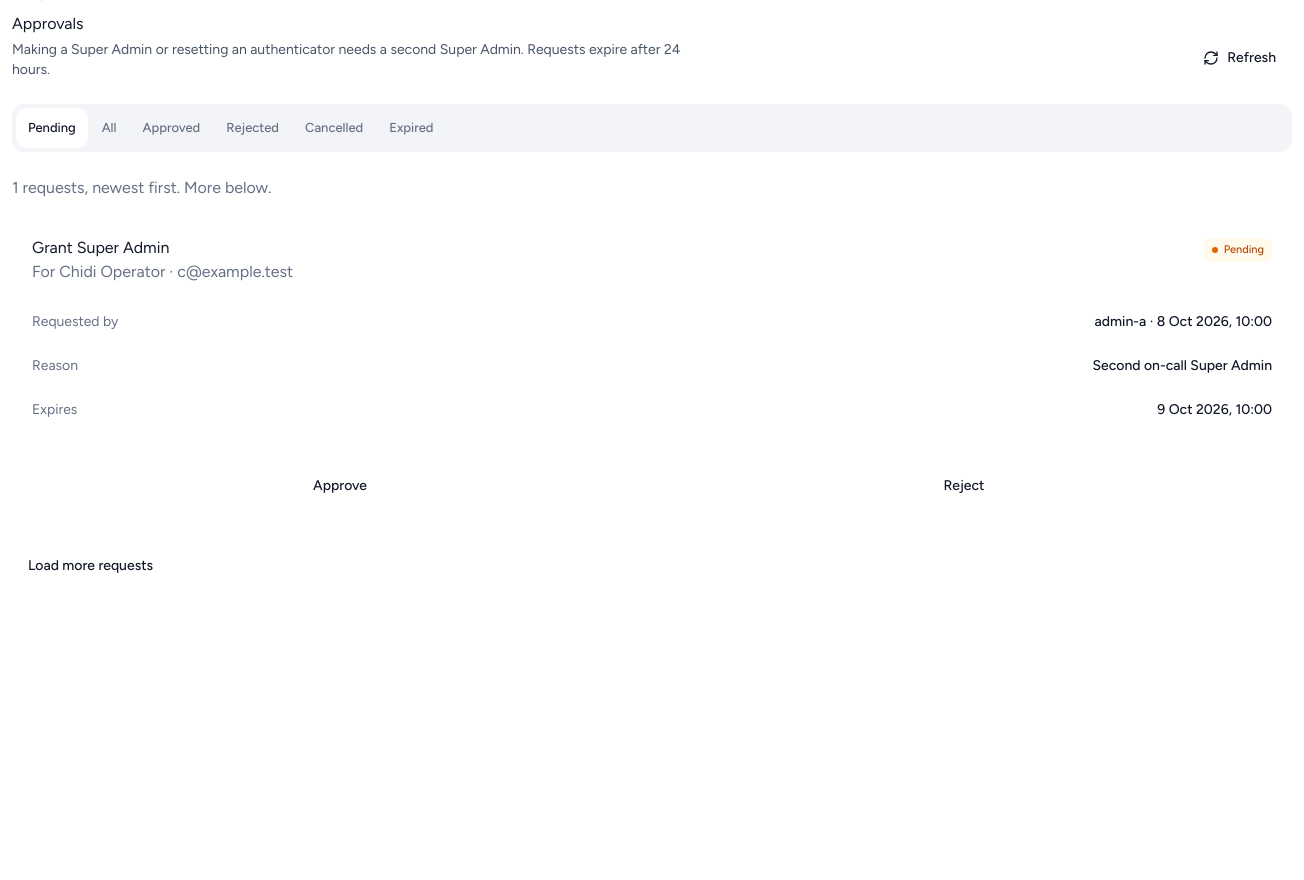
Test: two-person approvals › pages beyond the first page with the backend cursor, for the same status, with no cap
Expected: the text "1 requests, newest first. More below." is shown, [12,178,272,197]
Click the button "Load more requests". click: (91, 566)
box: [12,544,169,588]
(page scrolled)
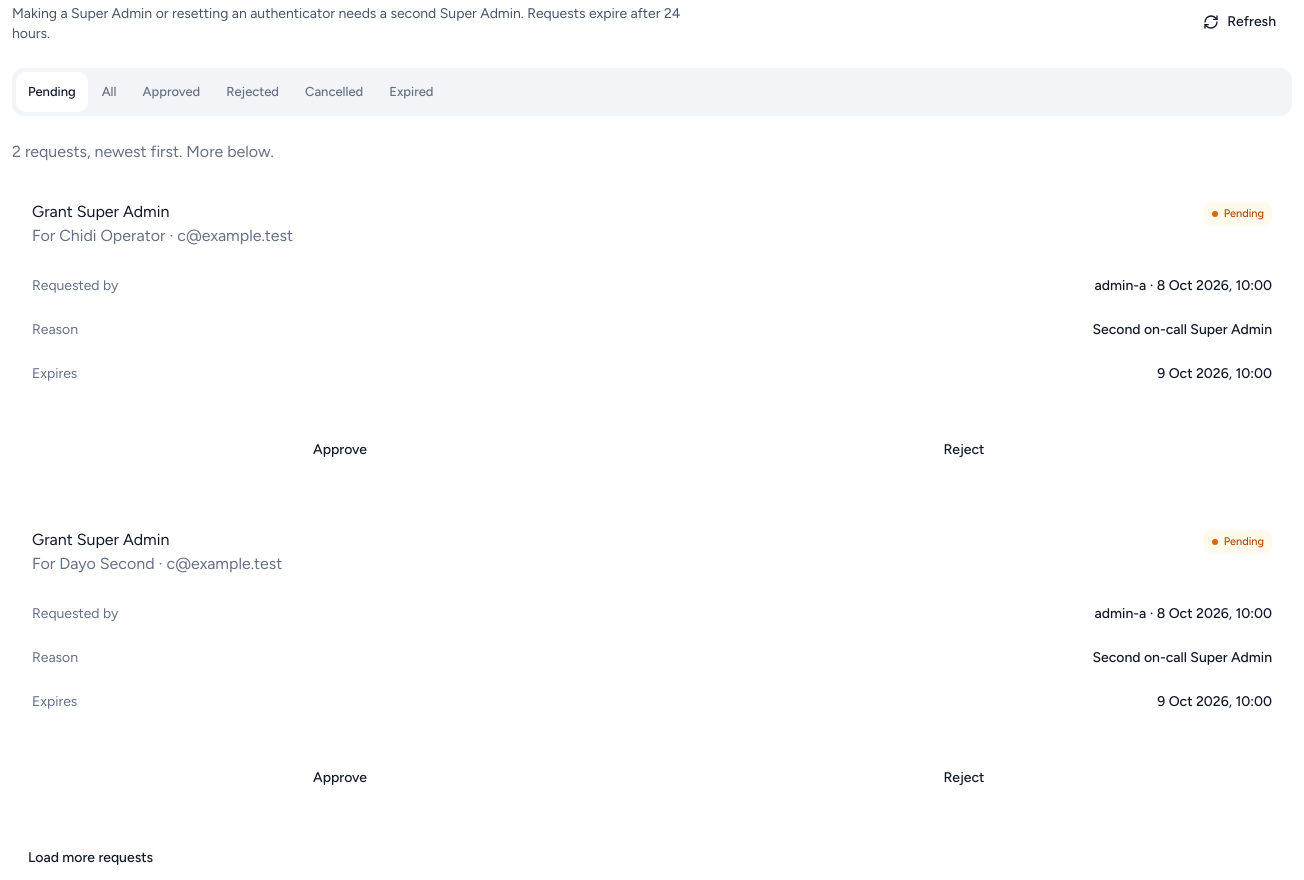
Now the text "For Dayo Second · c@example.test" is shown, box [32,552,282,576]
Click the button "Load more requests". click: (91, 858)
box: [12,836,169,879]
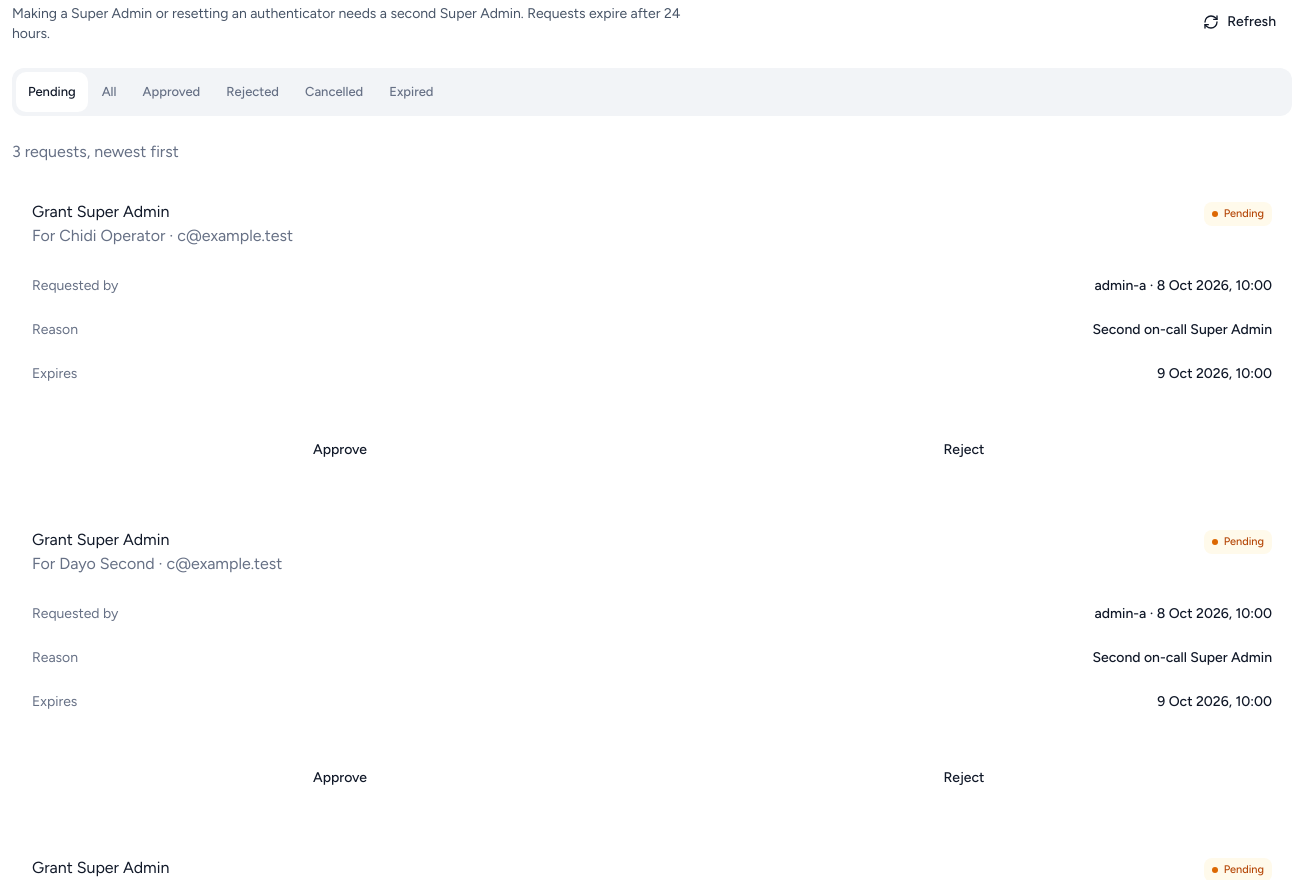
Now the text "3 requests, newest first" is shown, box [12,142,179,161]
Now the button "Load more requests" is gone
